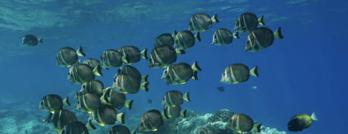Acanthuridae -Surgeonfishes-: (244, 24, 284, 51), (165, 60, 202, 87), (217, 62, 260, 84), (225, 111, 262, 134), (110, 74, 149, 93), (70, 63, 102, 85), (53, 47, 87, 67), (232, 13, 264, 34), (139, 110, 169, 132), (92, 105, 125, 125), (36, 94, 72, 112), (187, 12, 218, 32), (98, 49, 130, 66), (211, 27, 239, 46)
